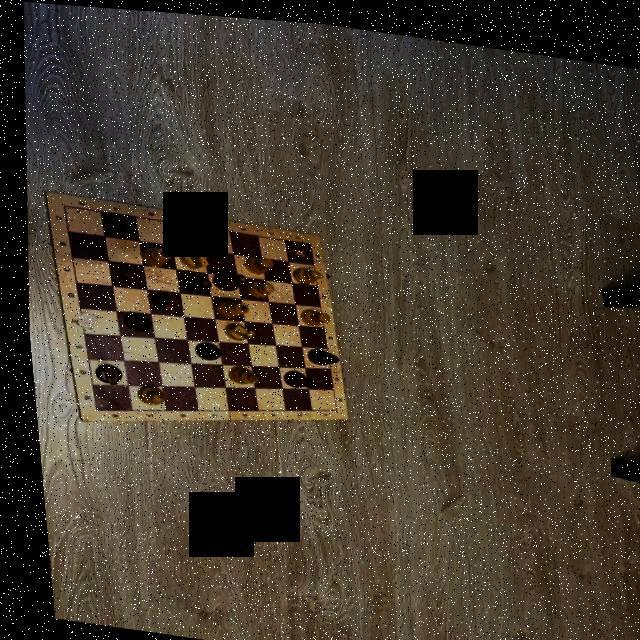chess-table-corners: (56, 202, 62, 208), (85, 407, 91, 411), (303, 238, 308, 240), (326, 404, 330, 406)
